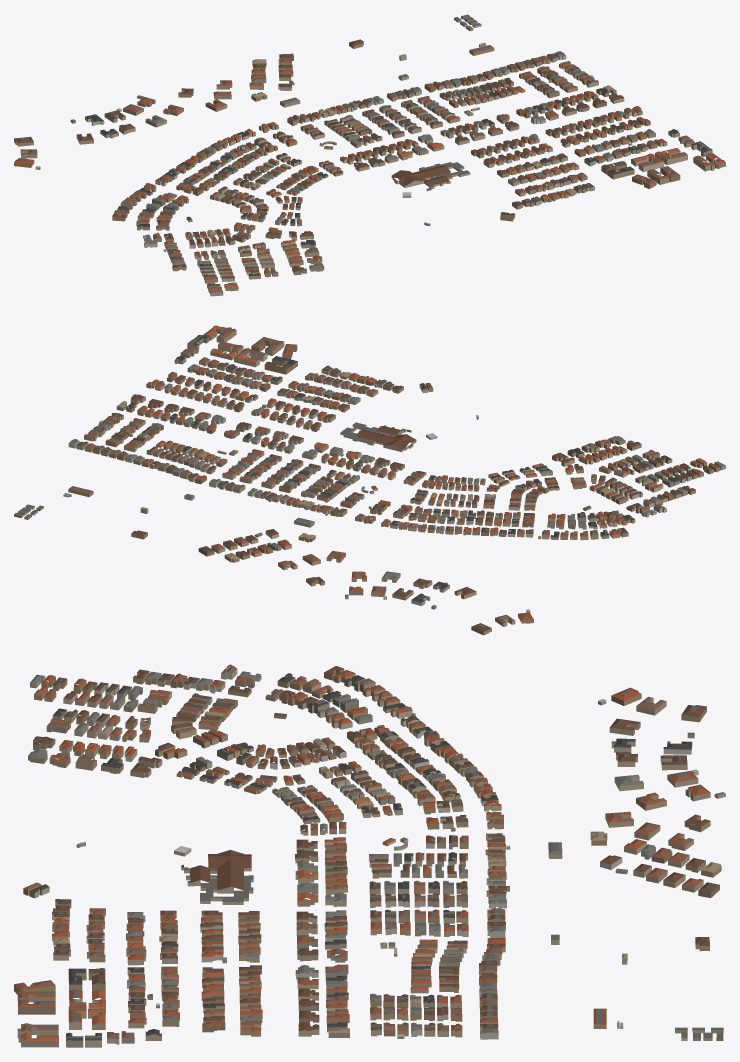
3 views of the same model, one above another, from view 1: azimuth 30°, elevation 25°; view 2: azimuth 150°, elevation 25°; view 3: azimuth 270°, elevation 25° (orthographic). The views are drawn at different scales.
Visible parts, largest first — view 1: buildings_r3_c2_lod1; view 2: buildings_r3_c2_lod1; view 3: buildings_r3_c2_lod1.
Part boxes in pixels (x1,y1,x2,y2): buildings_r3_c2_lod1: (14,14,725,296); buildings_r3_c2_lod1: (14,325,725,635); buildings_r3_c2_lod1: (14,664,725,1047).
Bounding box in the file's own units: 1045 × 50.77 × 815.
